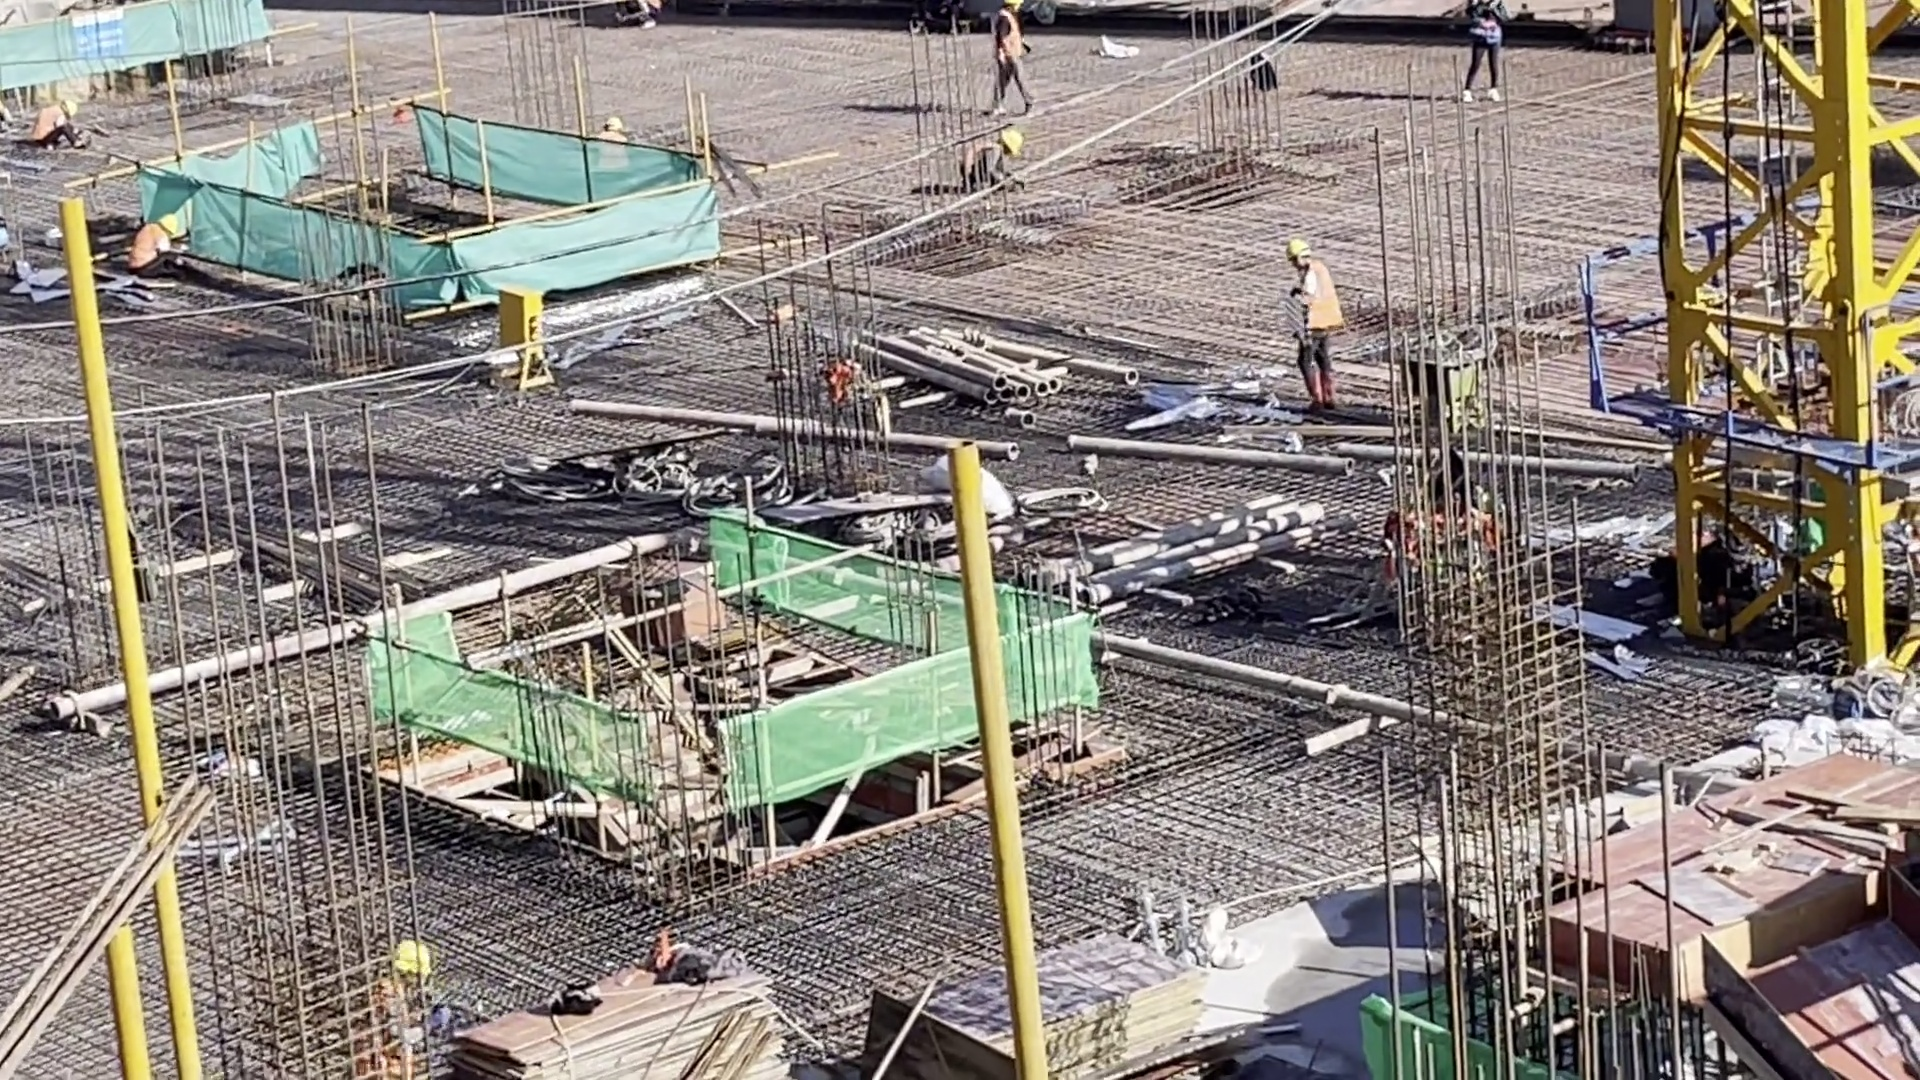helmet: (398, 935, 428, 977), (1285, 238, 1310, 258), (157, 214, 177, 238), (1001, 131, 1021, 151), (605, 115, 627, 131), (62, 101, 78, 116)
person: (347, 937, 446, 1080), (1278, 234, 1348, 409), (993, 1, 1037, 117), (1462, 1, 1508, 105), (129, 201, 181, 280), (964, 126, 1025, 193), (32, 100, 97, 152), (593, 115, 637, 176)
vest: (1300, 262, 1340, 342), (999, 11, 1025, 60), (136, 221, 162, 267), (962, 143, 1000, 172), (600, 135, 626, 168), (34, 108, 60, 139), (1471, 12, 1497, 40)
